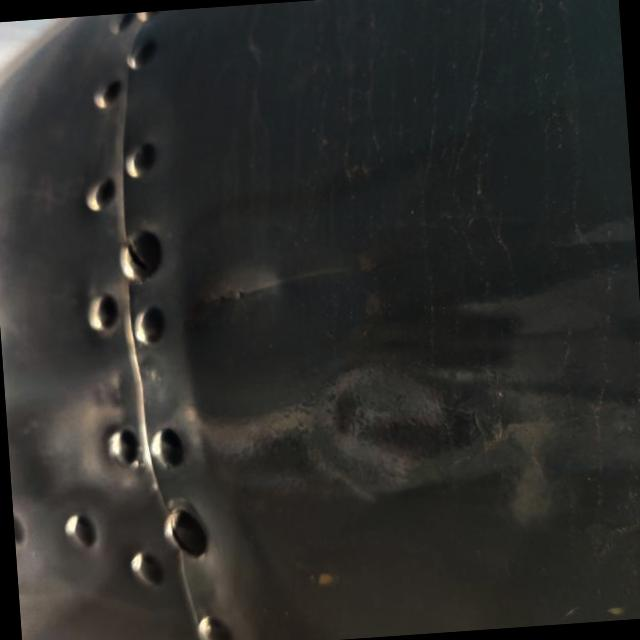dent: (314, 327, 503, 484), (169, 243, 297, 349)
